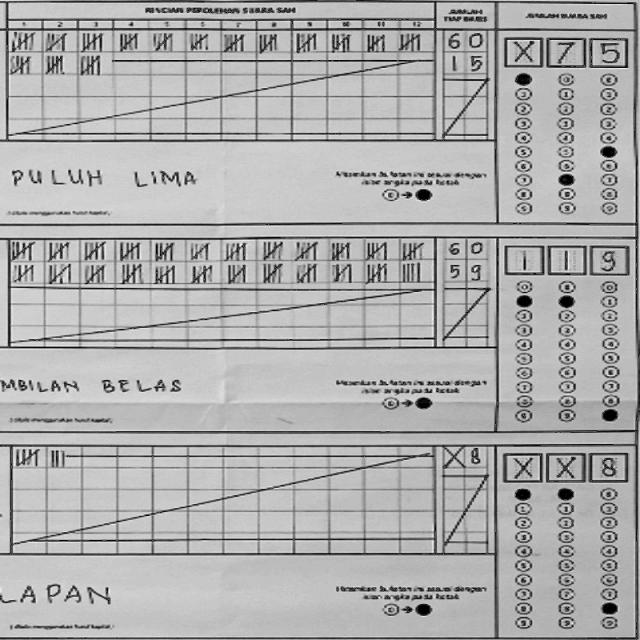Suara: (500, 447, 632, 485), (500, 33, 632, 70), (500, 241, 632, 278)
